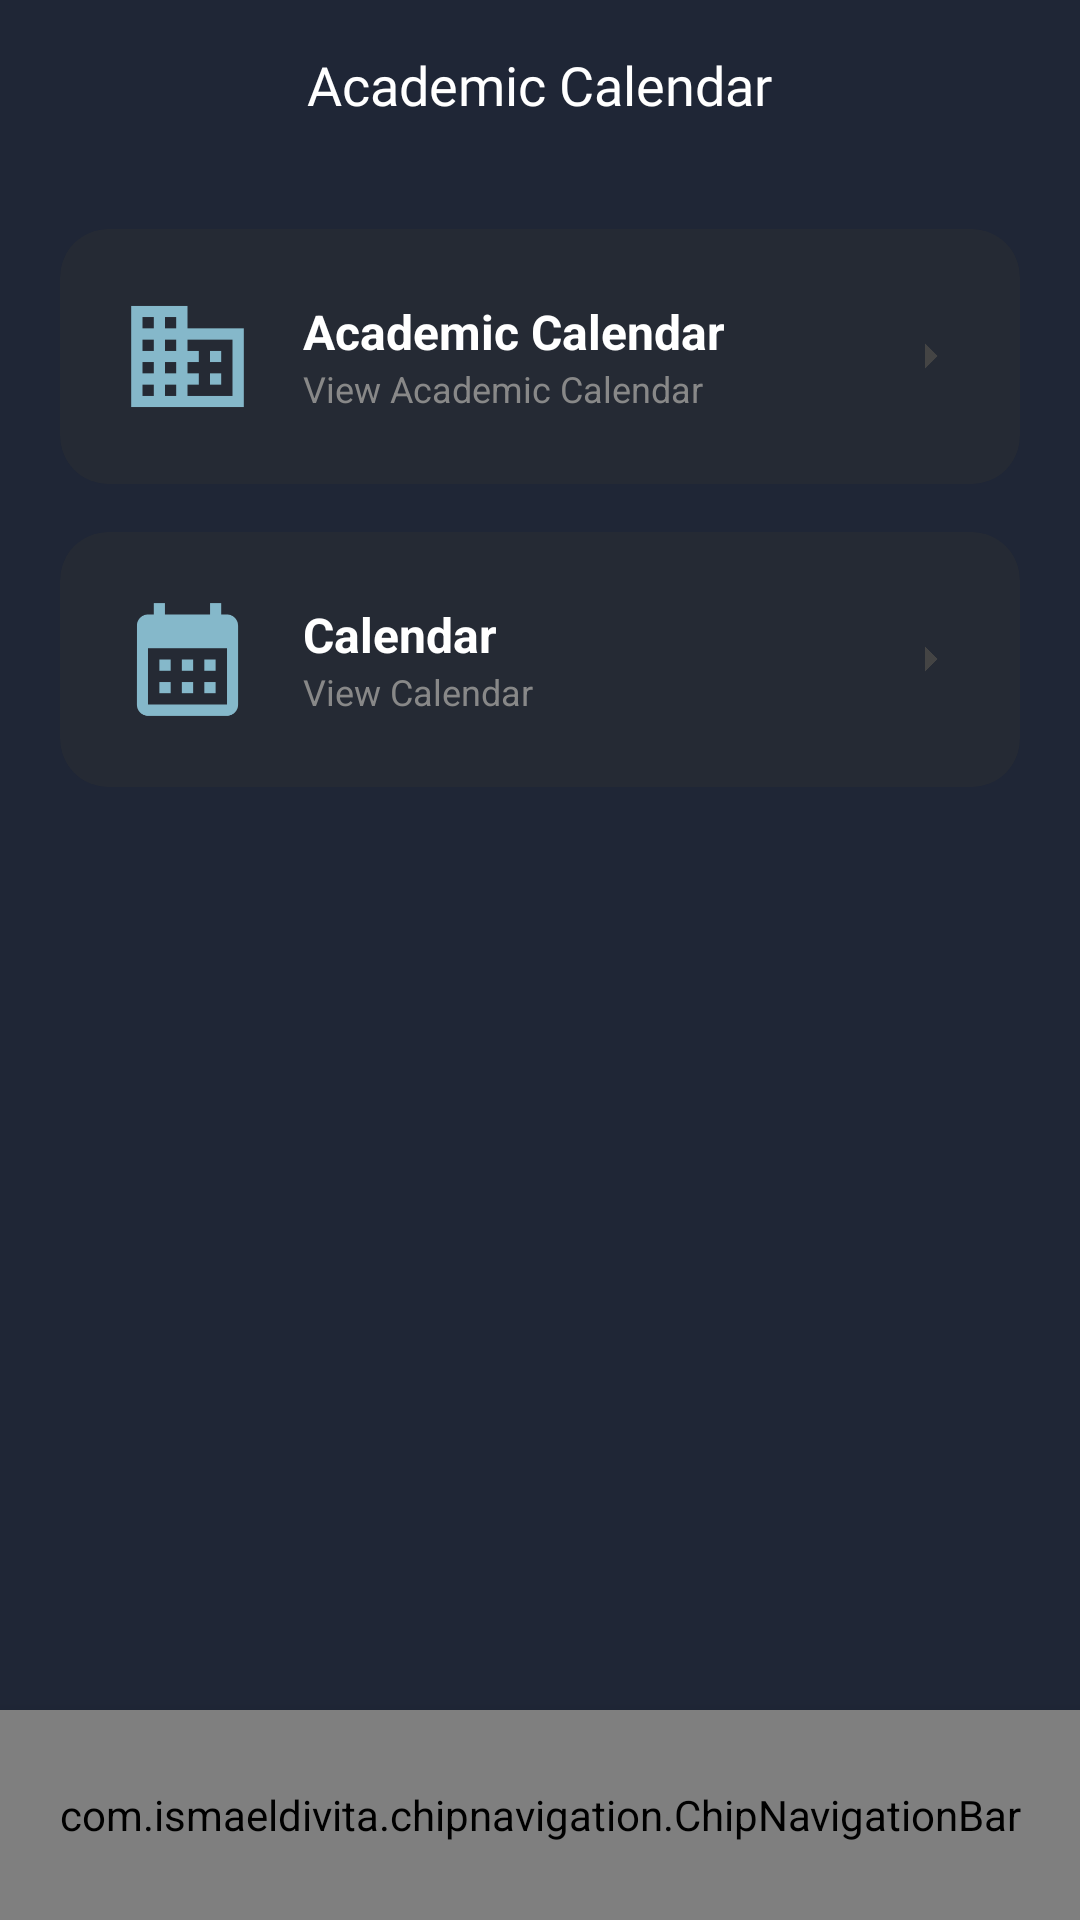

Screen size 1080*1920. Icon name, then its center in pixels as (x,y):
chevron right: (931,356), (931,659)
